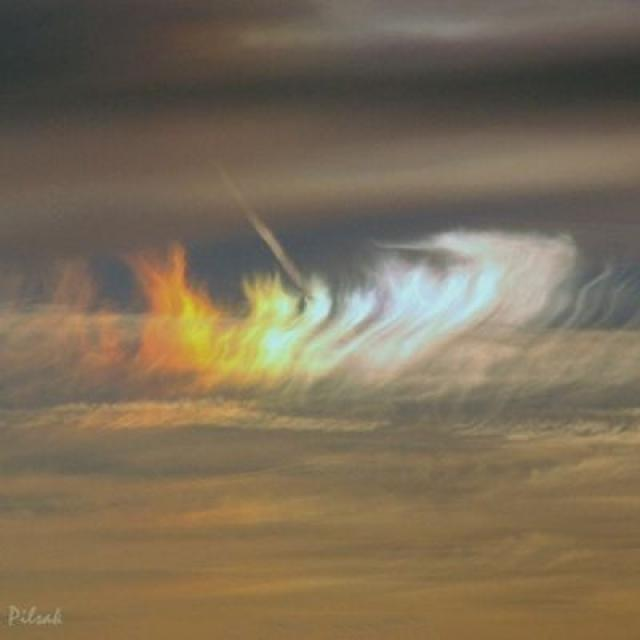Cc: (33, 192, 640, 506)
